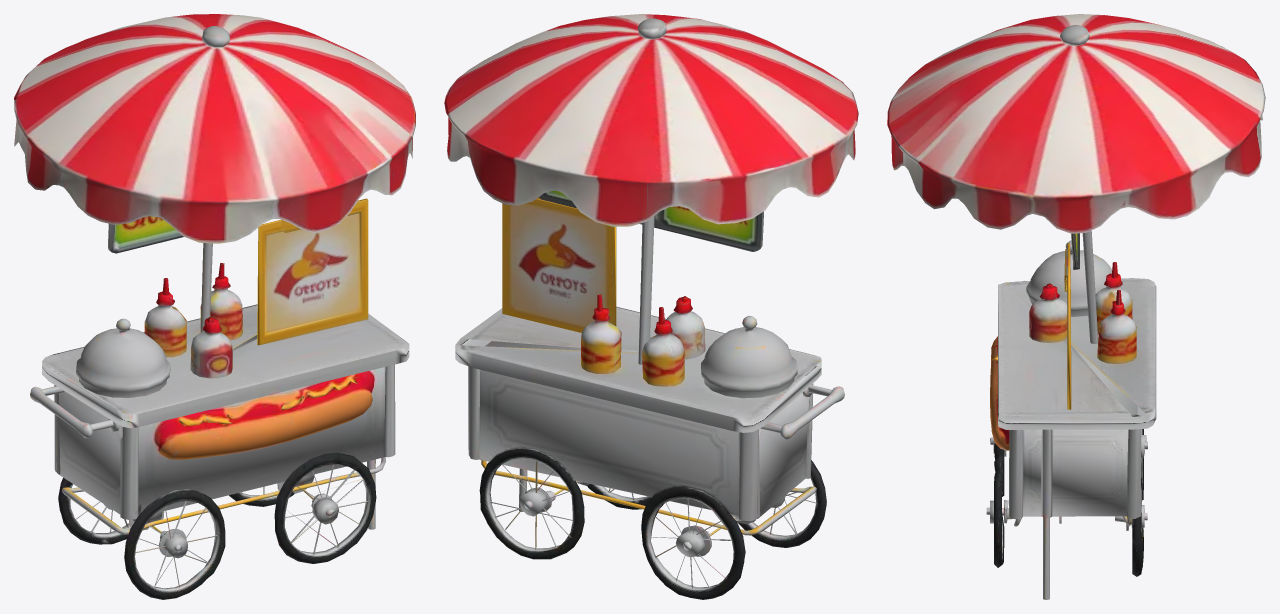
Rendered from hotdog_cart.glb.
The picture shows the model from 3 angles, left to right: view 1: azimuth 30°, elevation 25°; view 2: azimuth 150°, elevation 25°; view 3: azimuth 270°, elevation 25°; orthographic projection. The views are drawn at different scales.
Size of the model in its own units: 0.6723 by 0.9521 by 0.647.
Materials: 1 (1 with a texture image).
